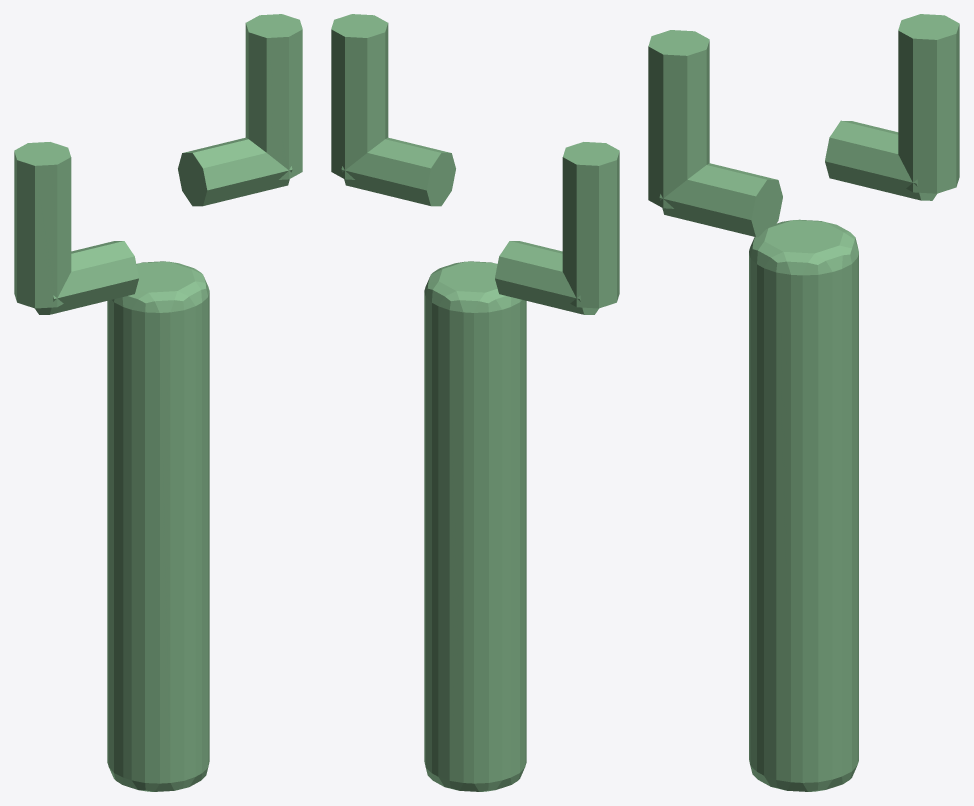
The model's file is cactus.glb.
The picture shows the model from 3 angles, left to right: view 1: azimuth 30°, elevation 25°; view 2: azimuth 150°, elevation 25°; view 3: azimuth 330°, elevation 25°; orthographic projection. The views are drawn at different scales.
Visible parts, largest first — view 1: Cactus, Cylinder.001, Cylinder.003, Cylinder.002, Cylinder; view 2: Cactus, Cylinder.001, Cylinder.003, Cylinder.002, Cylinder; view 3: Cactus, Cylinder.003, Cylinder.001, Cylinder, Cylinder.002.
Boxes of the visible parts, x1,y1,x2,y2 form: Cactus: (107, 261, 209, 791); Cylinder.001: (14, 142, 71, 308); Cylinder.003: (245, 14, 302, 179); Cylinder.002: (178, 137, 292, 206); Cylinder: (35, 241, 138, 314); Cactus: (424, 261, 526, 791); Cylinder.001: (562, 142, 619, 308); Cylinder.003: (331, 14, 388, 179); Cylinder.002: (341, 137, 455, 206); Cylinder: (495, 241, 598, 314); Cactus: (749, 219, 858, 791); Cylinder.003: (898, 14, 959, 193); Cylinder.001: (648, 30, 709, 208); Cylinder: (659, 163, 782, 237); Cylinder.002: (825, 120, 936, 200).
Bounding box in the file's own units: 1.66 × 4.05 × 0.5241.
